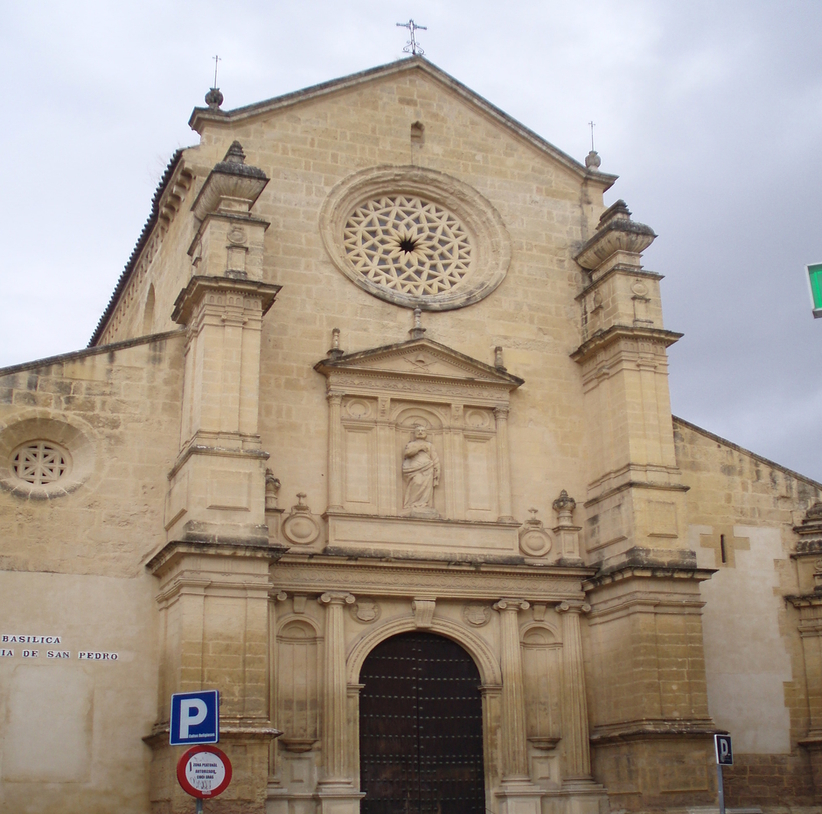arco-medio-punto: (341, 612, 507, 699)
fronton: (313, 335, 527, 388)
serliana: (331, 402, 503, 511)
